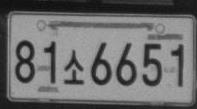1: (41, 40, 63, 84), (168, 43, 189, 86)
5: (141, 43, 163, 86)
6: (89, 41, 112, 85), (114, 42, 137, 86)
8: (14, 39, 35, 84)
소: (63, 49, 85, 85)
